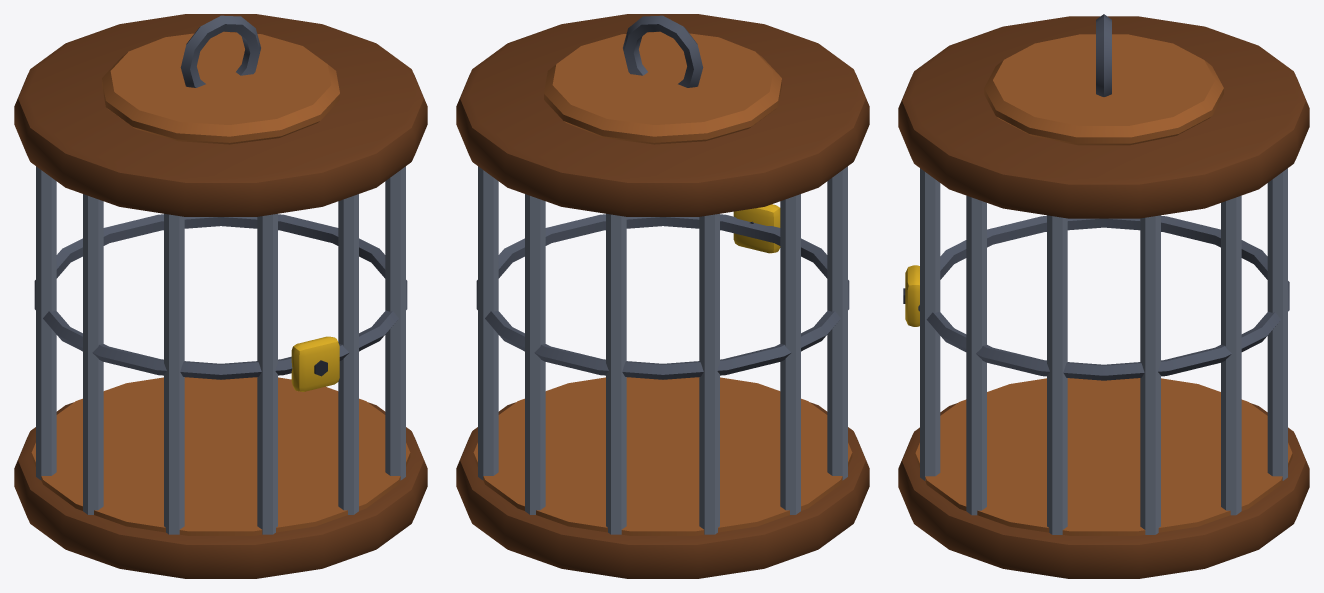
Rendered from p_cage.glb.
3 views of the same model, side by side, from view 1: azimuth 30°, elevation 25°; view 2: azimuth 150°, elevation 25°; view 3: azimuth 270°, elevation 25° (orthographic).
Visible parts, largest first — view 1: body; view 2: body; view 3: body.
Part boxes in pixels (box(x1,y1,x2,y2)): body: box(14, 14, 427, 578); body: box(456, 14, 869, 578); body: box(898, 14, 1309, 578).
Bounding box in the file's own units: 2.36 × 3.09 × 2.4.
